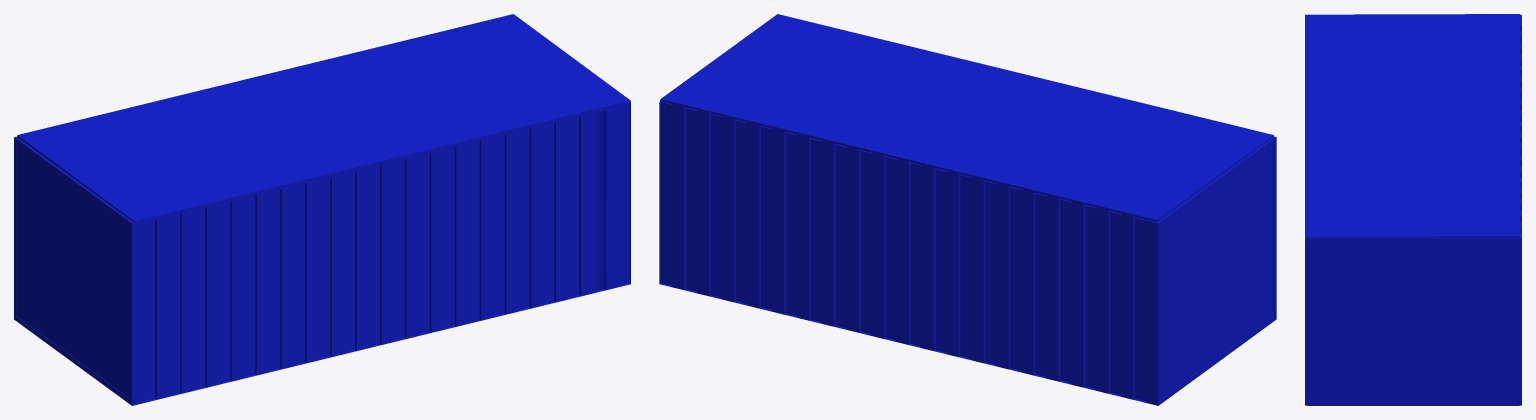
Rendered from container-close-blue.FBX.
3 views of the same model, side by side, from view 1: azimuth 30°, elevation 25°; view 2: azimuth 150°, elevation 25°; view 3: azimuth 270°, elevation 25° (orthographic). The views are drawn at different scales.
Parts seen in each view (by area): view 1: Box002, Box010, Box011, Box009; view 2: Box002, Box010, Box011, Box009; view 3: Box010, Box009, Box002.
Part boxes in pixels (<box>): Box002: <box>14,102,630,405</box>; Box010: <box>17,14,630,222</box>; Box011: <box>16,144,129,398</box>; Box009: <box>625,104,629,283</box>; Box002: <box>659,101,1276,405</box>; Box010: <box>660,14,1273,222</box>; Box011: <box>1160,144,1273,398</box>; Box009: <box>660,100,665,283</box>; Box010: <box>1305,14,1520,238</box>; Box009: <box>1307,237,1519,405</box>; Box002: <box>1305,15,1521,405</box>.
Bounding box in the file's own units: 115 × 40.74 × 47.26.
